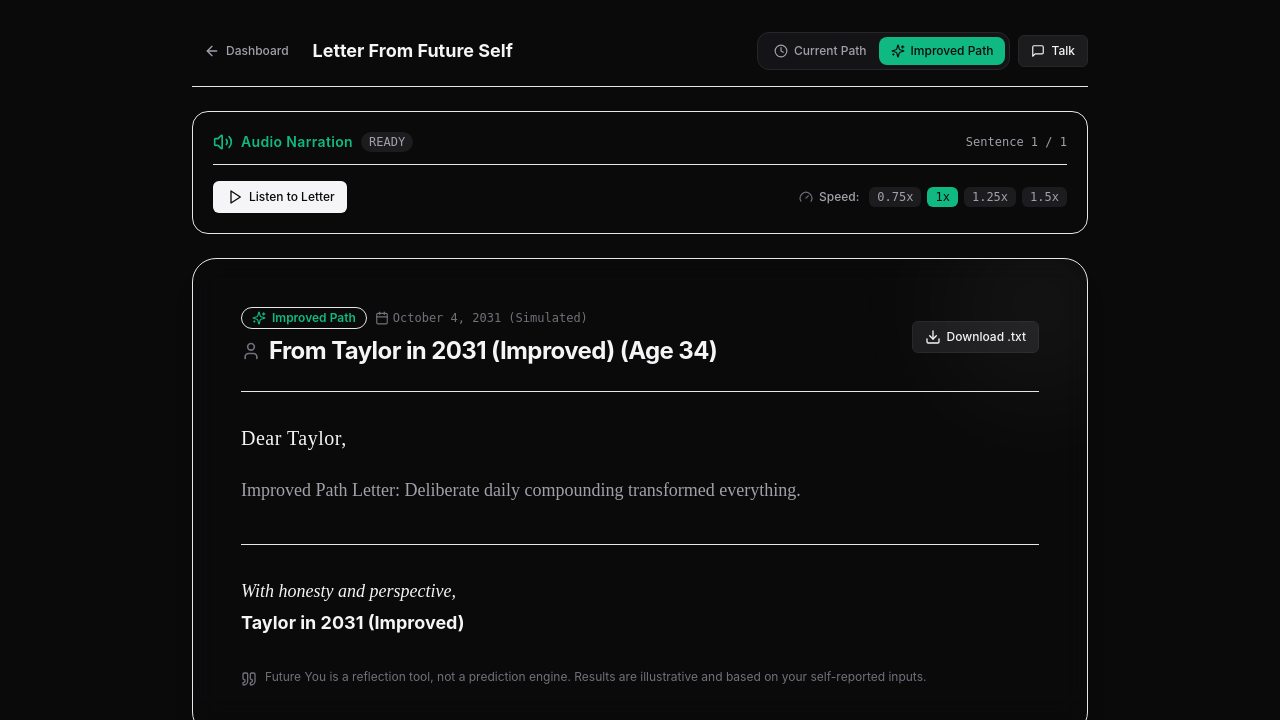
Test: LetterPage Route › switches between persona tabs and syncs URL without reload
Expected: the text "Deliberate daily compounding transformed everything" is shown, [241, 480, 801, 500]
# Click Current Path tab
Click the tab with aria-label "View Current Path letter".
click(820, 51)  # box [762, 37, 879, 65]
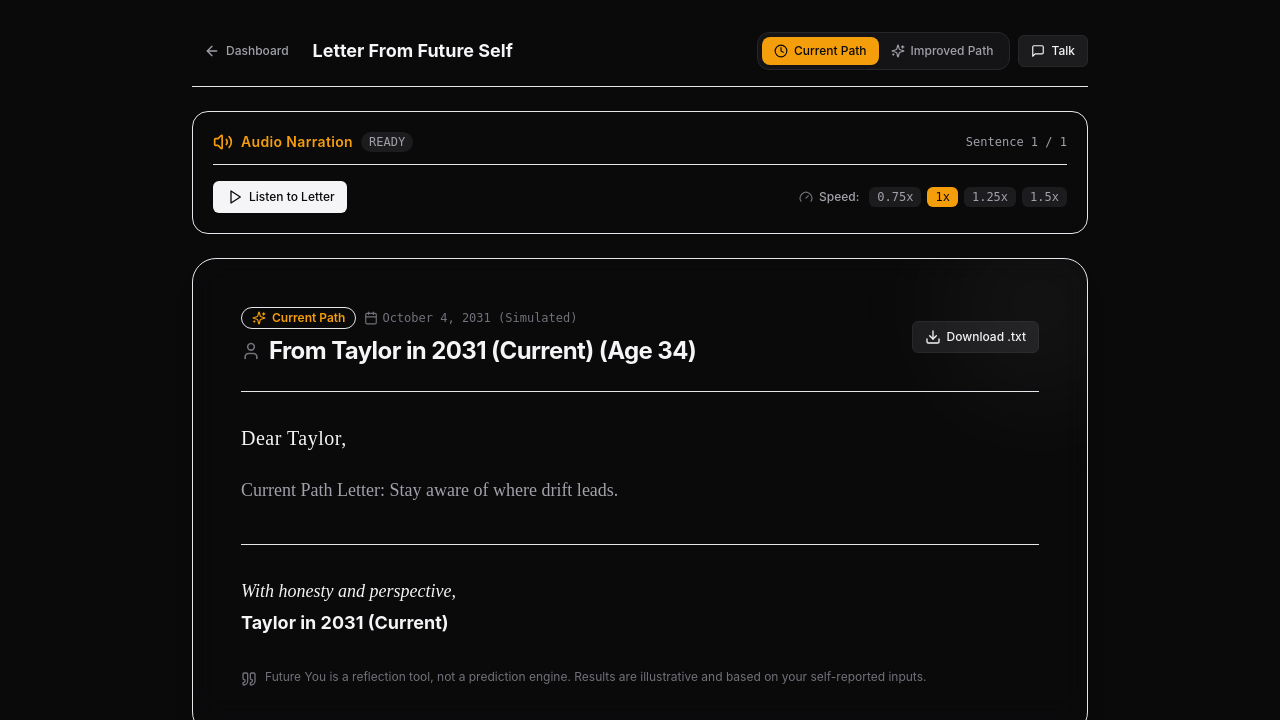
Result: the text "Current Path Letter: Stay aware of where drift leads." is shown at [241, 480, 618, 500]
# Click Improved Path tab
Click the tab with aria-label "View Improved Path letter".
click(942, 51)  # box [879, 37, 1006, 65]
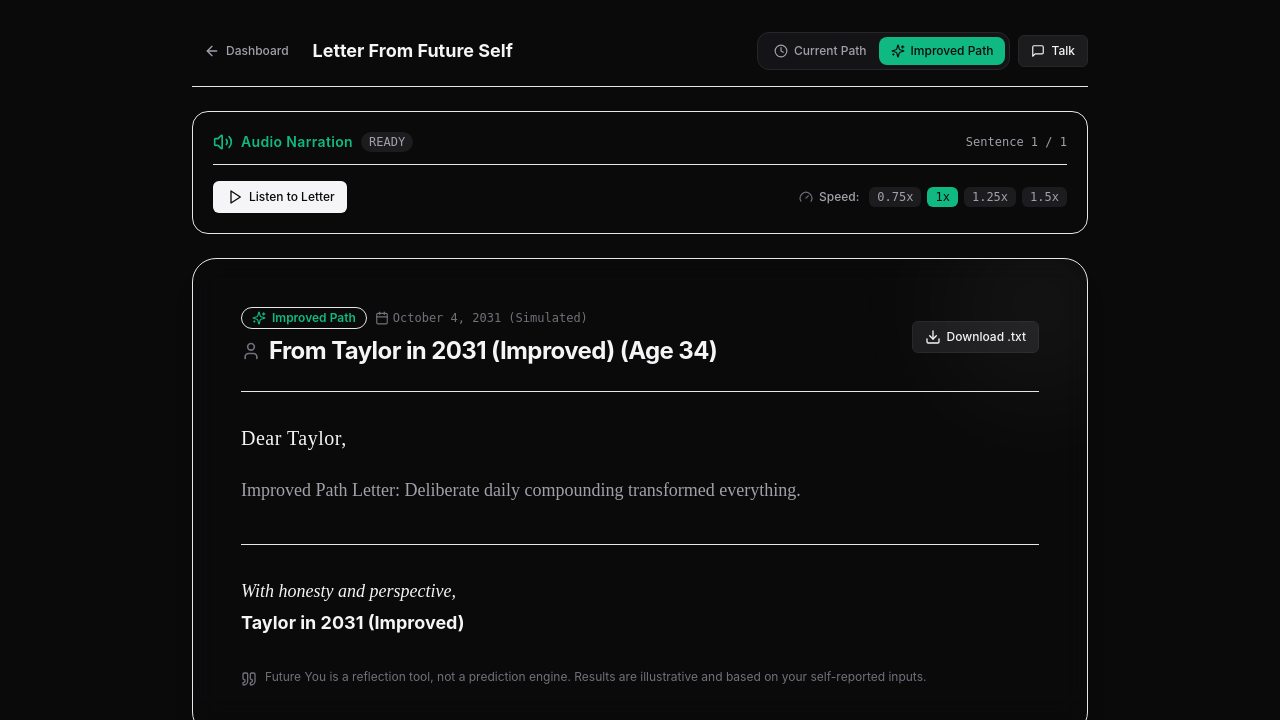
Result: the text "Deliberate daily compounding transformed everything" is shown at [241, 480, 801, 500]
